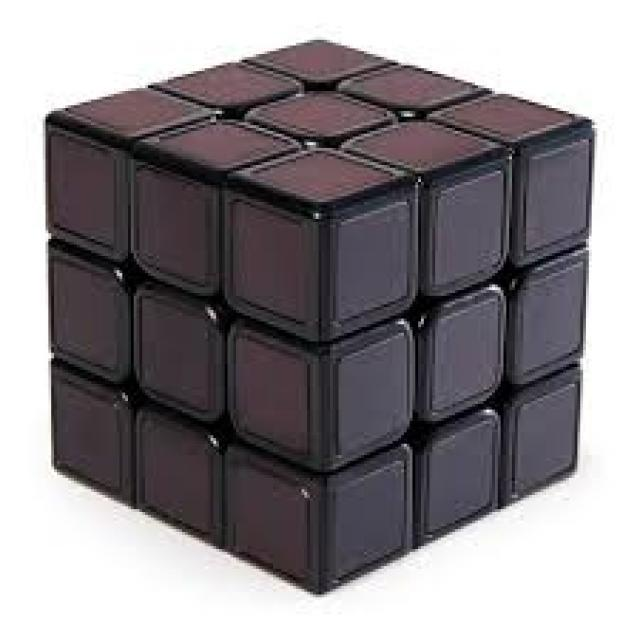Rub: (44, 36, 595, 595)
